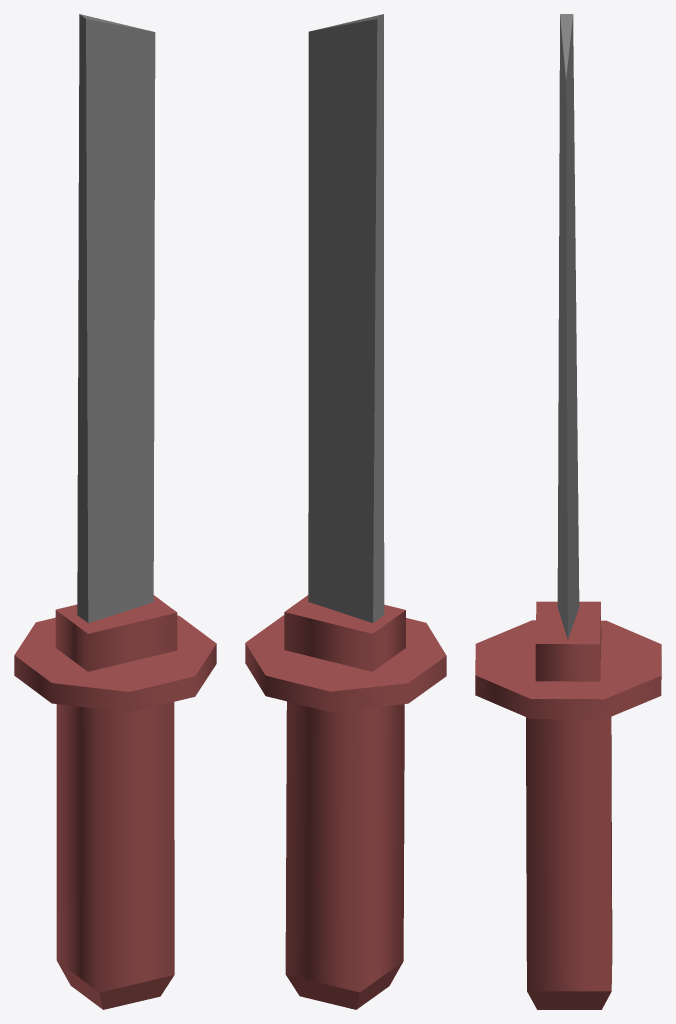
The model's file is Ninja_sword_multi_mats.fbx.
The picture shows the model from 3 angles, left to right: view 1: azimuth 30°, elevation 25°; view 2: azimuth 150°, elevation 25°; view 3: azimuth 270°, elevation 25°; orthographic projection.
Parts seen in each view (by area): view 1: Ninja_sword; view 2: Ninja_sword; view 3: Ninja_sword.
Part boxes in pixels (x1,y1,x2,y2): Ninja_sword: (14,14,216,1009); Ninja_sword: (245,14,446,1009); Ninja_sword: (475,14,661,1009).
Size of the model in its own units: 16.43 by 93.89 by 16.43.
